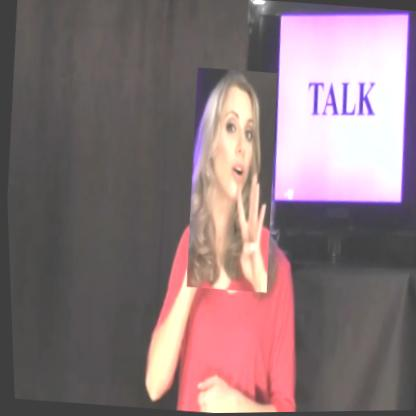Talk: (178, 67, 283, 294)
